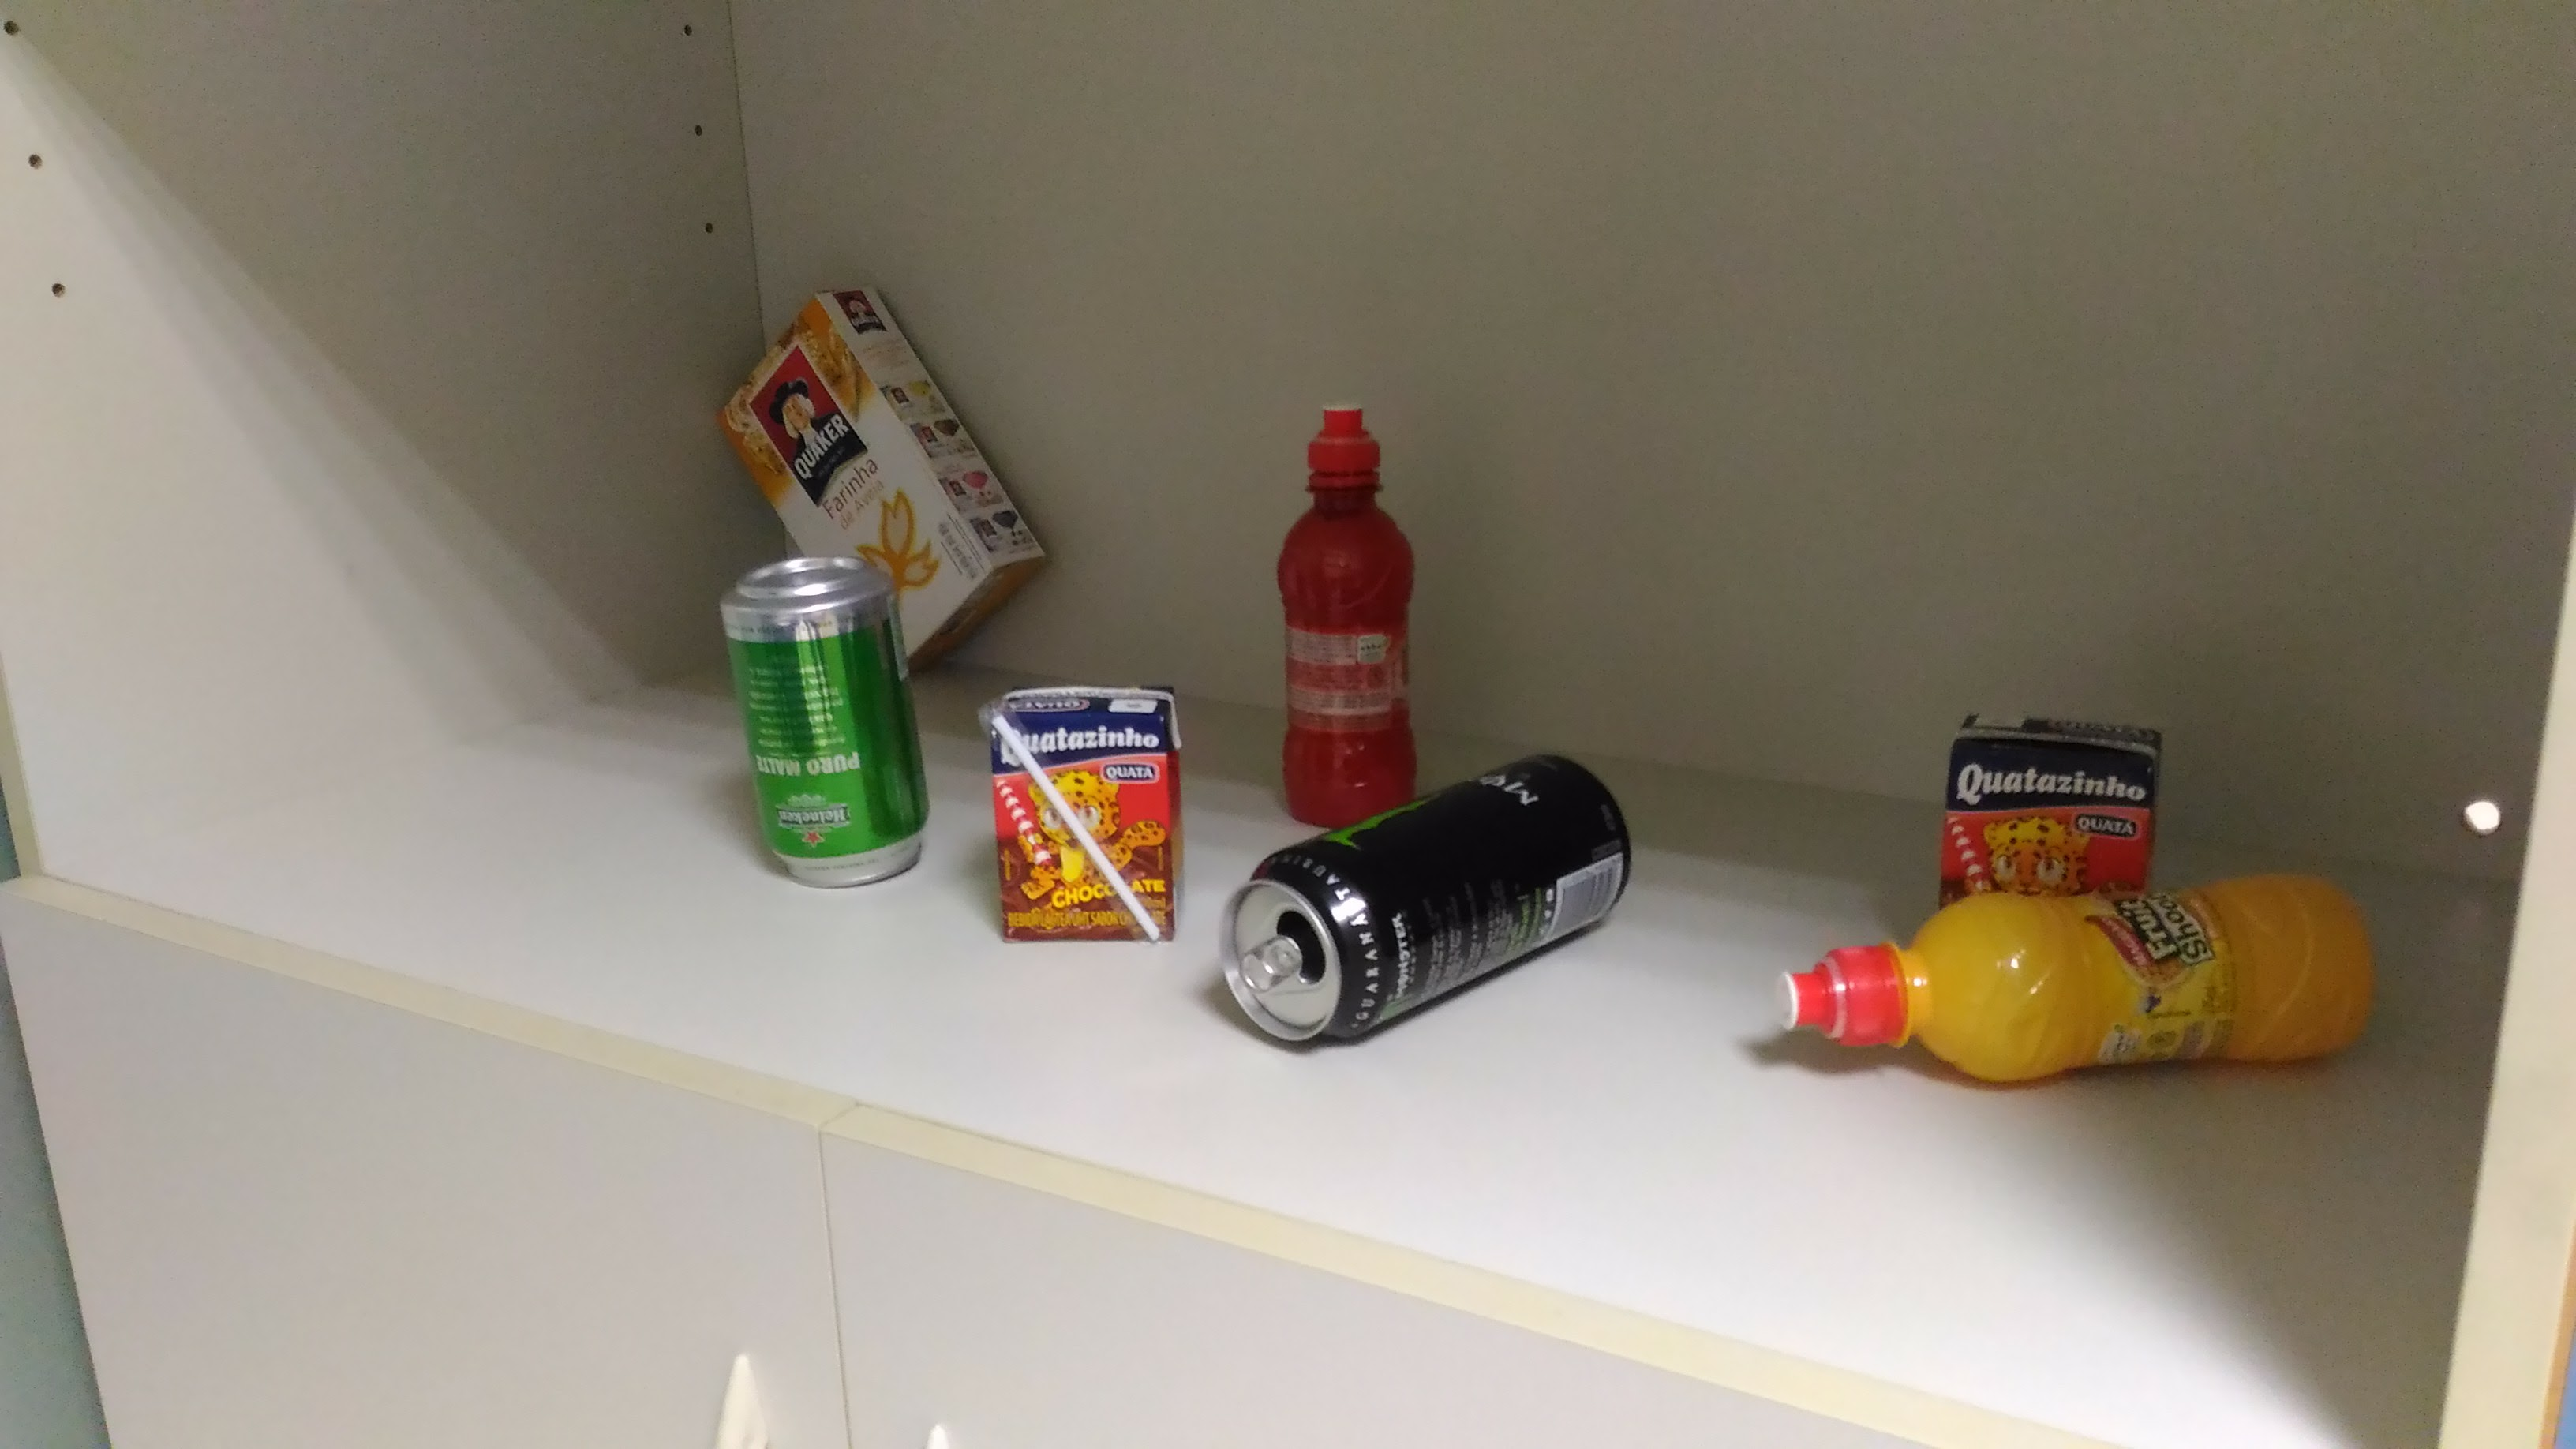chocolate_milk: (970, 653, 1187, 961), (1925, 701, 2173, 902)
heineken: (717, 556, 931, 906)
monster: (1207, 748, 1656, 1053)
red_juice: (1270, 393, 1419, 832)
yellow_juice: (1771, 867, 2383, 1092)
